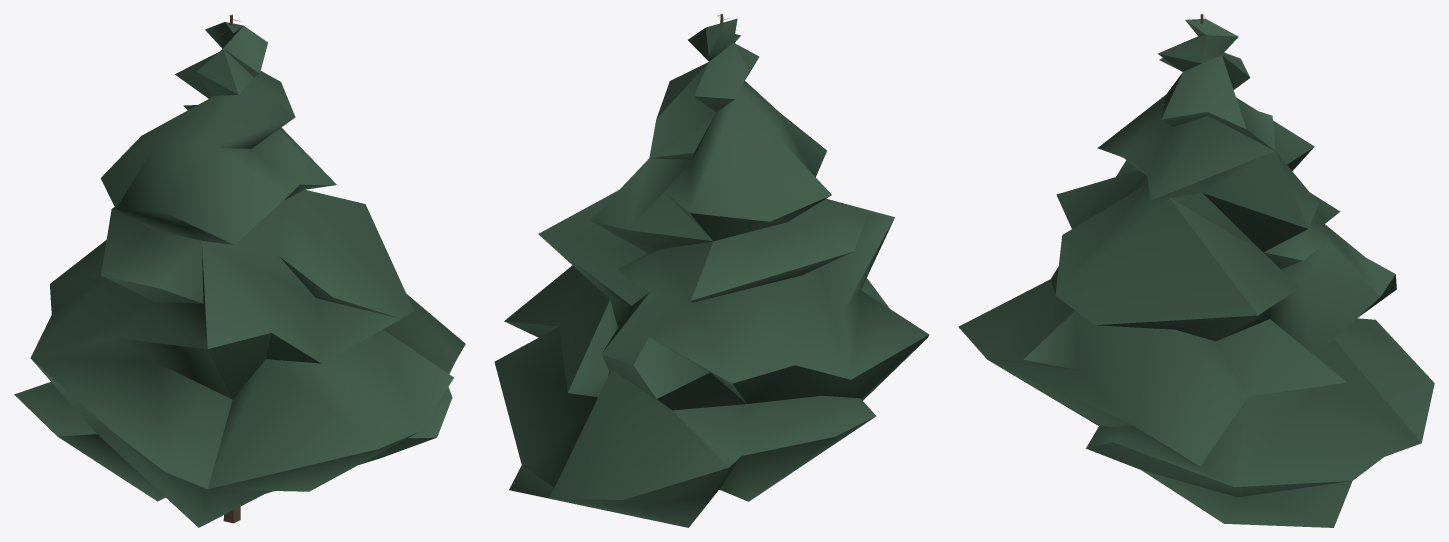
The picture shows the model from 3 angles, left to right: view 1: azimuth 30°, elevation 25°; view 2: azimuth 150°, elevation 25°; view 3: azimuth 270°, elevation 25°; orthographic projection. The views are drawn at different scales.
Parts seen in each view (by area): view 1: Ель; view 2: Ель; view 3: Ель.
Boxes of the visible parts, x1,y1,x2,y2 form: Ель: (14, 14, 465, 527); Ель: (494, 14, 929, 527); Ель: (958, 14, 1434, 527).
Size of the model in its own units: 16.49 by 20.39 by 18.56.
